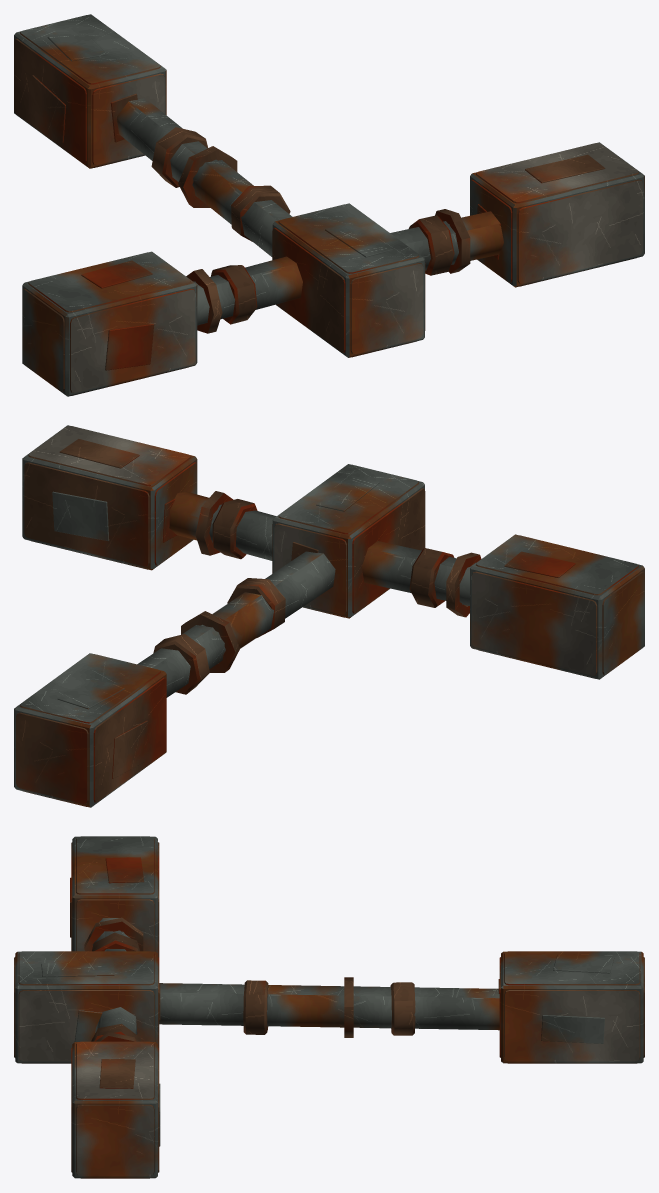
File: R4C_ROD_T.glb
3 views of the same model, one above another, from view 1: azimuth 30°, elevation 25°; view 2: azimuth 150°, elevation 25°; view 3: azimuth 270°, elevation 25° (orthographic). The views are drawn at different scales.
Visible parts, largest first — view 1: R4C_ROD_T; view 2: R4C_ROD_T; view 3: R4C_ROD_T.
Boxes of the visible parts, x1,y1,x2,y2 form: R4C_ROD_T: [14, 14, 644, 396]; R4C_ROD_T: [14, 425, 644, 807]; R4C_ROD_T: [14, 836, 644, 1178].
Bounding box in the file's own units: 1.62 × 0.232 × 1.62.
Materials: 4 (4 with a texture image).
